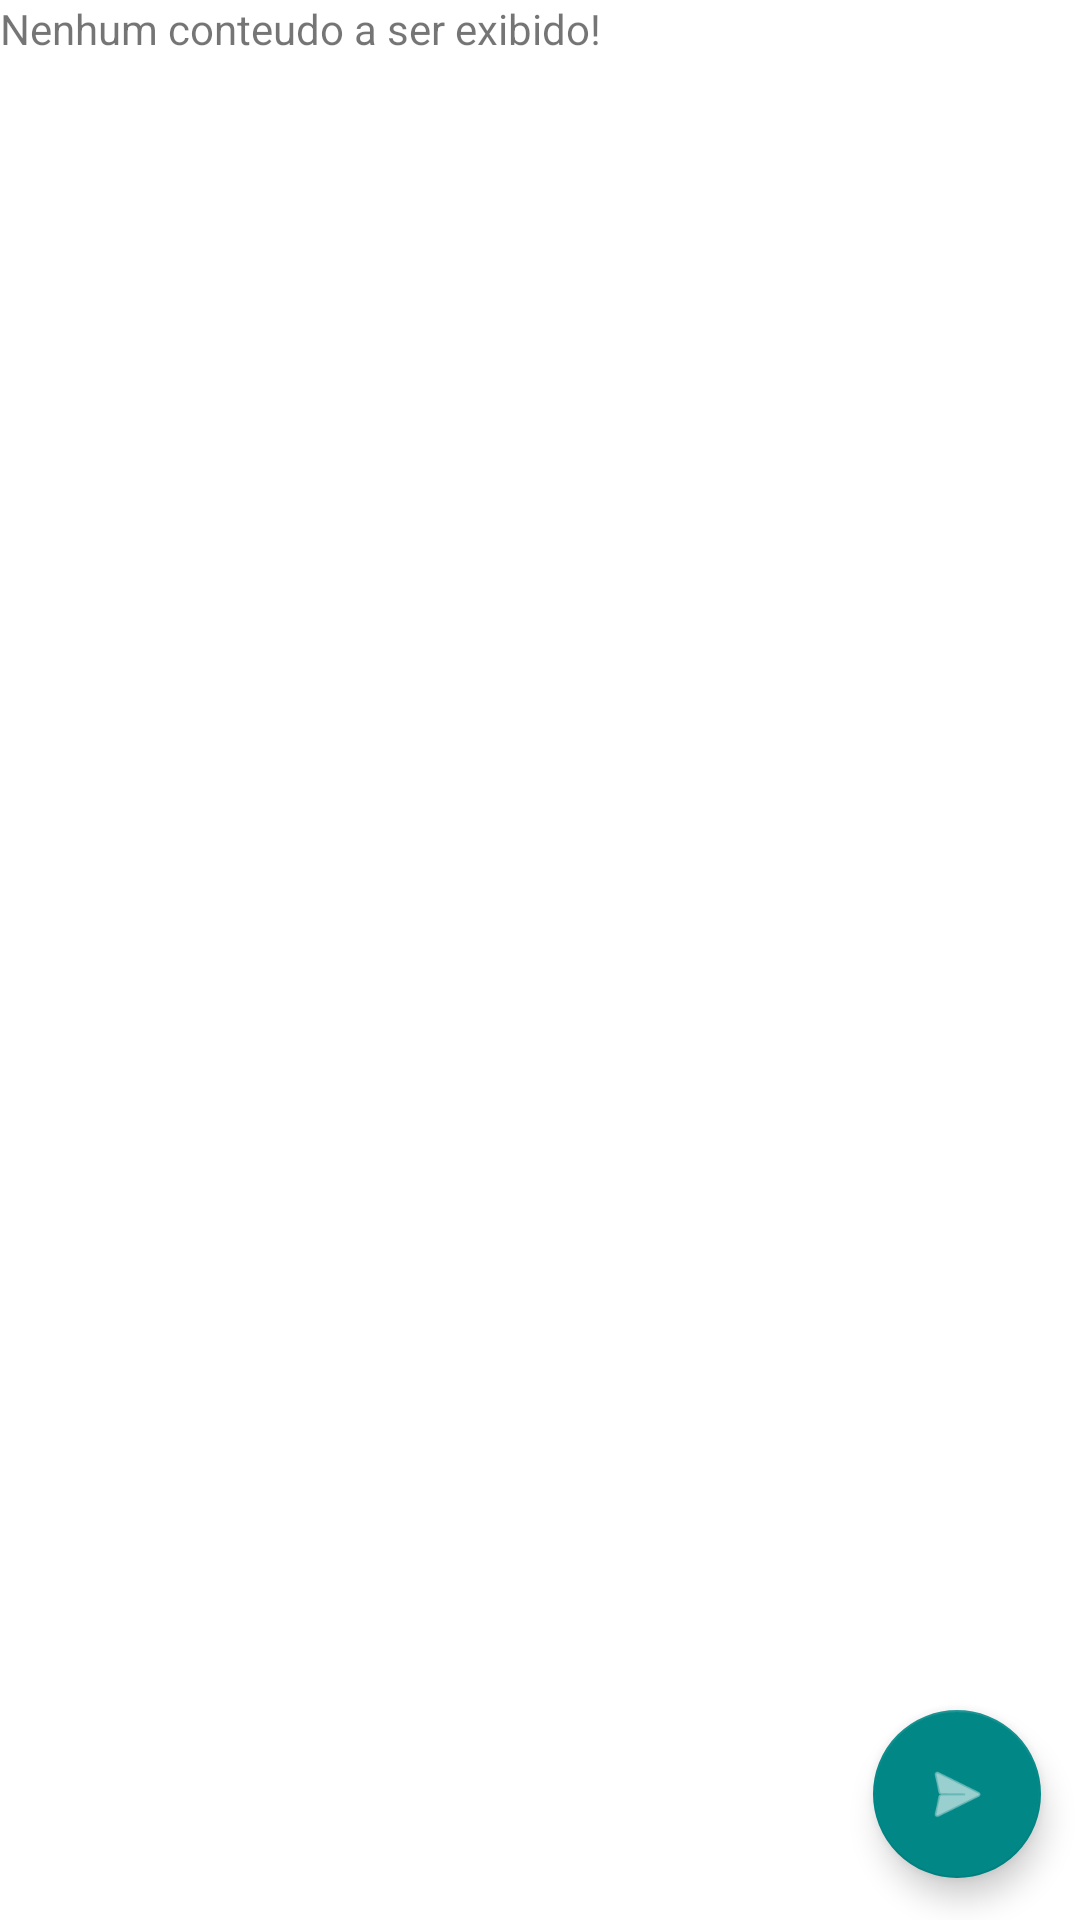

Where icons sit on this 1080w x 1920h app screen, as (x1, y1, x2, y2):
send: (873, 1710, 1041, 1878)
